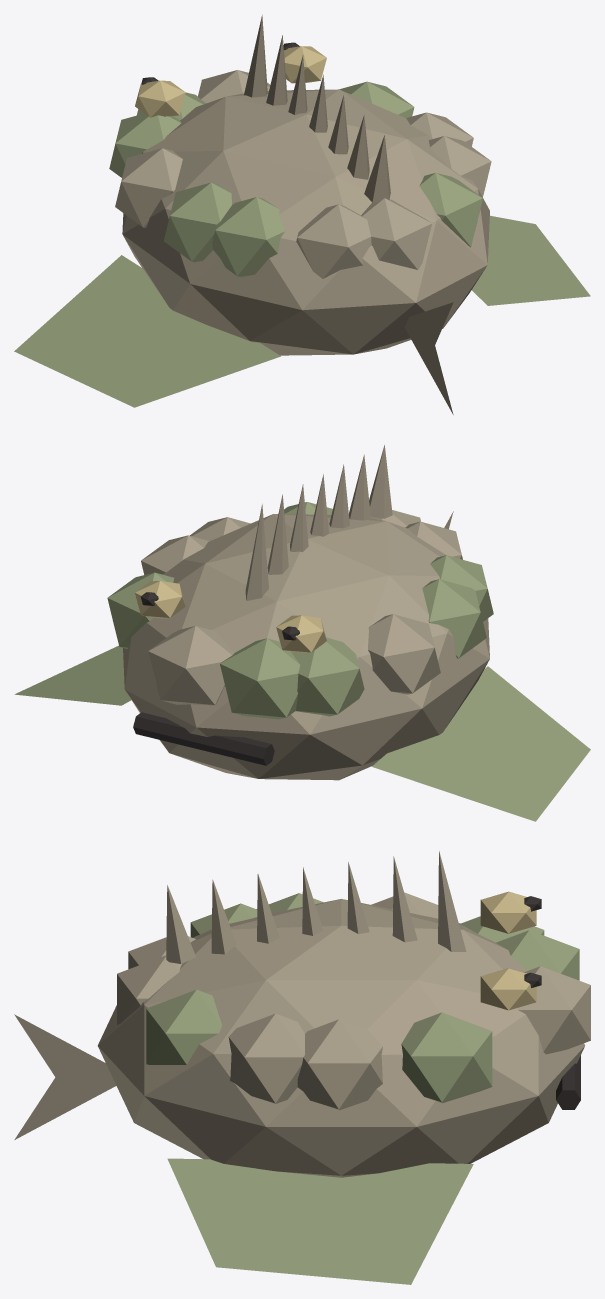
File: Stonefish.fbx
The picture shows the model from 3 angles, top to bottom: view 1: azimuth 30°, elevation 25°; view 2: azimuth 150°, elevation 25°; view 3: azimuth 270°, elevation 25°; orthographic projection. The views are drawn at different scales.
Parts seen in each view (by area): view 1: Body, Pectoral1, Pectoral-1, Wart3, Wart8, Wart11, Wart6, Wart0, Wart5, Wart1, TailFin, Wart10 (+12 smaller); view 2: Body, Pectoral1, Wart9, Wart4, Wart6, Wart1, Pectoral-1, Wart11, Mouth, Wart7, Wart3, Wart2 (+11 smaller); view 3: Body, Pectoral-1, Wart7, Wart2, Wart10, TailFin, Wart5, Wart4, Wart9, Wart0, Eye1, Eye-1 (+12 smaller).
Boxes of the visible parts, x1=… form: Body: x1=122, y1=89, x2=489, y2=355; Pectoral1: x1=14, y1=255, x2=280, y2=407; Pectoral-1: x1=472, y1=215, x2=590, y2=305; Wart3: x1=212, y1=197, x2=284, y2=277; Wart8: x1=296, y1=204, x2=371, y2=278; Wart11: x1=164, y1=182, x2=231, y2=262; Wart6: x1=115, y1=148, x2=182, y2=227; Wart0: x1=361, y1=198, x2=431, y2=269; Wart5: x1=419, y1=173, x2=482, y2=247; Wart1: x1=109, y1=113, x2=180, y2=177; TailFin: x1=404, y1=302, x2=453, y2=414; Wart10: x1=428, y1=136, x2=491, y2=197; Body: x1=123, y1=514, x2=489, y2=780; Pectoral1: x1=372, y1=666, x2=590, y2=821; Wart9: x1=220, y1=638, x2=300, y2=719; Wart4: x1=148, y1=626, x2=234, y2=705; Wart6: x1=368, y1=614, x2=440, y2=694; Wart1: x1=291, y1=637, x2=364, y2=716; Pectoral-1: x1=14, y1=645, x2=131, y2=705; Wart11: x1=422, y1=579, x2=486, y2=658; Mouth: x1=133, y1=712, x2=274, y2=765; Wart7: x1=107, y1=572, x2=174, y2=648; Wart3: x1=430, y1=555, x2=493, y2=621; Wart2: x1=141, y1=535, x2=209, y2=574; Body: x1=97, y1=899, x2=585, y2=1177; Pectoral-1: x1=167, y1=1158, x2=473, y2=1284; Wart7: x1=401, y1=1012, x2=492, y2=1103; Wart2: x1=297, y1=1019, x2=382, y2=1110; Wart10: x1=228, y1=1013, x2=304, y2=1103; TailFin: x1=14, y1=1014, x2=116, y2=1139; Wart5: x1=146, y1=989, x2=222, y2=1064; Wart4: x1=517, y1=966, x2=590, y2=1054; Wart9: x1=496, y1=930, x2=579, y2=980; Wart0: x1=117, y1=955, x2=181, y2=1024; Eye1: x1=480, y1=891, x2=536, y2=933; Eye-1: x1=480, y1=968, x2=536, y2=1010.
Bounding box in the file's own units: 0.96 × 0.5 × 0.8282.
